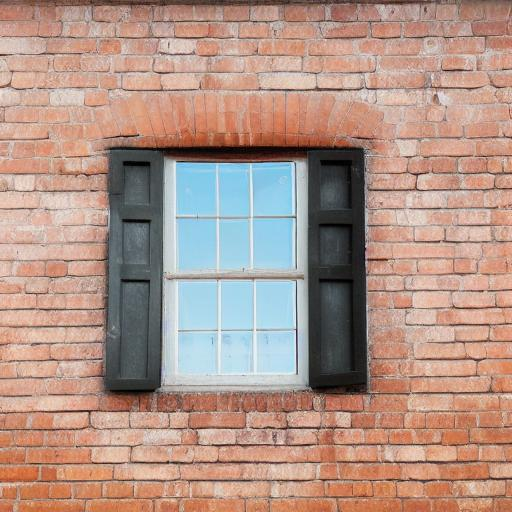Window: (85, 94, 392, 398)
